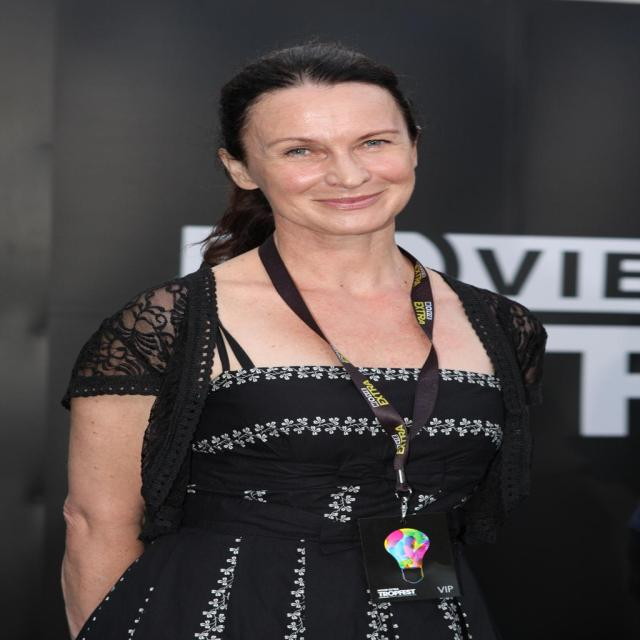Face: (247, 86, 439, 232)
